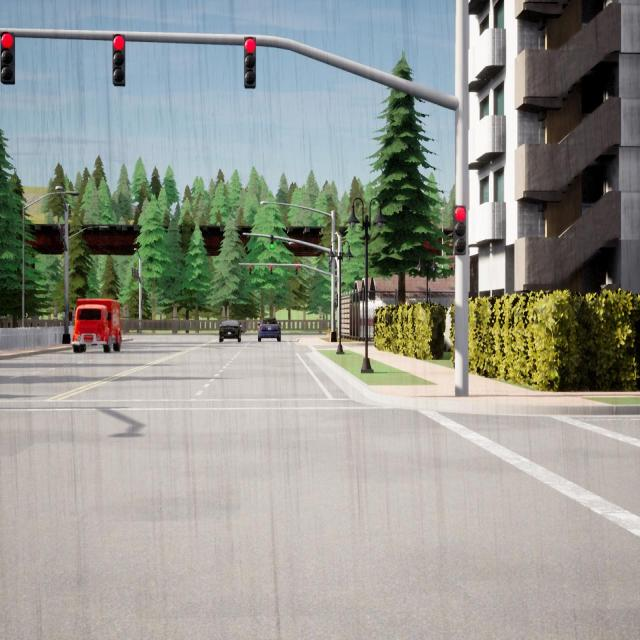Vehicle: (72, 298, 120, 352), (258, 317, 281, 342), (219, 320, 241, 342)
traffic_light: (1, 32, 15, 84), (112, 35, 126, 86), (452, 205, 466, 255), (244, 37, 256, 88), (270, 235, 274, 249), (60, 227, 64, 240), (249, 264, 252, 275), (270, 265, 272, 275), (134, 268, 136, 278), (296, 265, 298, 274), (141, 300, 143, 308), (132, 268, 133, 277), (137, 270, 138, 279)
